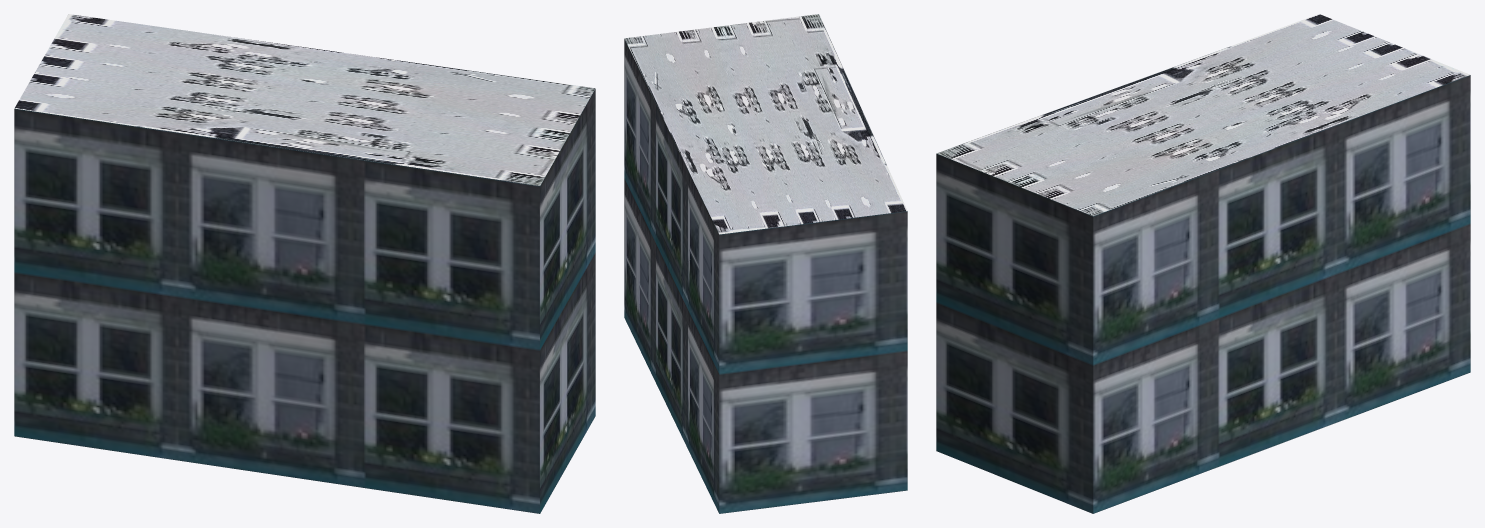
Rendered from ResTex__1379.fbx.
The picture shows the model from 3 angles, left to right: view 1: azimuth 30°, elevation 25°; view 2: azimuth 150°, elevation 25°; view 3: azimuth 270°, elevation 25°; orthographic projection. The views are drawn at different scales.
Visible parts, largest first — view 1: CityEngineMaterial_11_m, CityEngineMaterial_8_m; view 2: CityEngineMaterial_11_m, CityEngineMaterial_8_m; view 3: CityEngineMaterial_11_m, CityEngineMaterial_8_m.
Part boxes in pixels (x1=…): CityEngineMaterial_11_m: x1=14, y1=89, x2=595, y2=513; CityEngineMaterial_8_m: x1=14, y1=14, x2=595, y2=185; CityEngineMaterial_11_m: x1=624, y1=39, x2=907, y2=513; CityEngineMaterial_8_m: x1=624, y1=14, x2=907, y2=234; CityEngineMaterial_11_m: x1=936, y1=75, x2=1470, y2=513; CityEngineMaterial_8_m: x1=936, y1=14, x2=1469, y2=216.
Size of the model in its own units: 8.75 by 6 by 9.76.
Materials: 2 (2 with a texture image).
